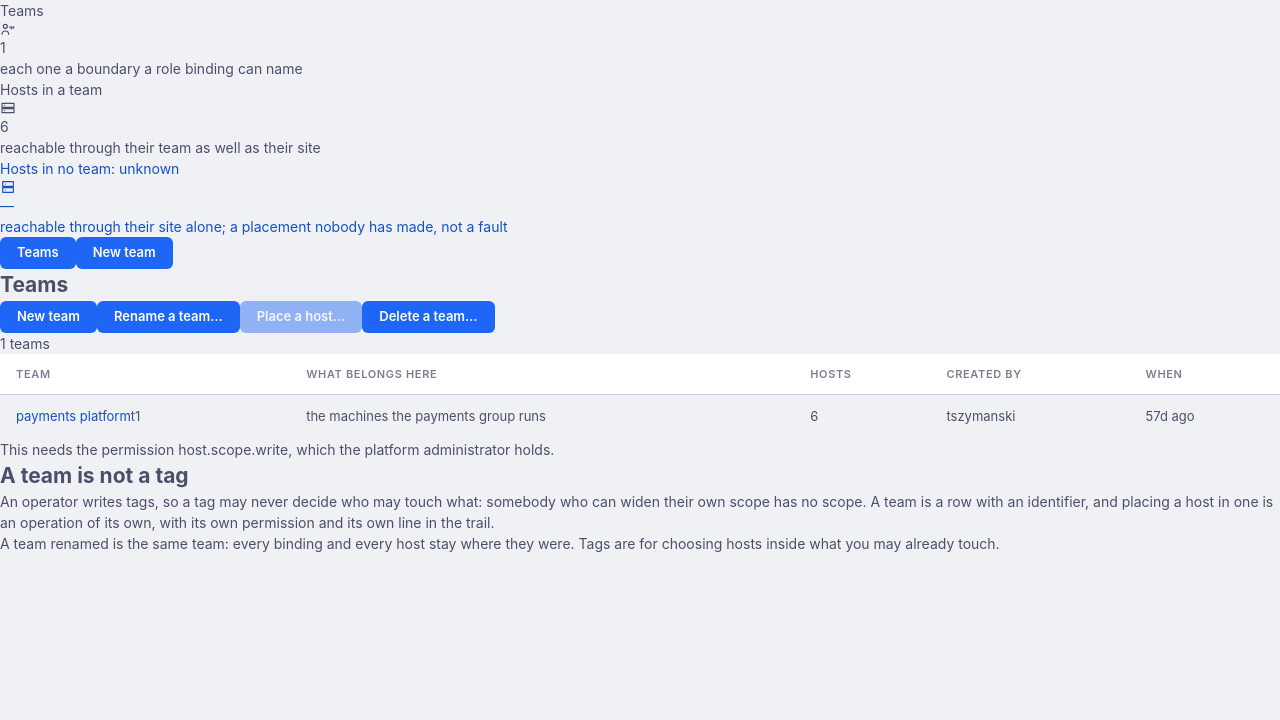
deleting a team › says what the register refused in words, keeping the dialog's own wording out of it
Click the button with test id "delete-a-team": {"x": 428, "y": 316} [362,300,494,332]
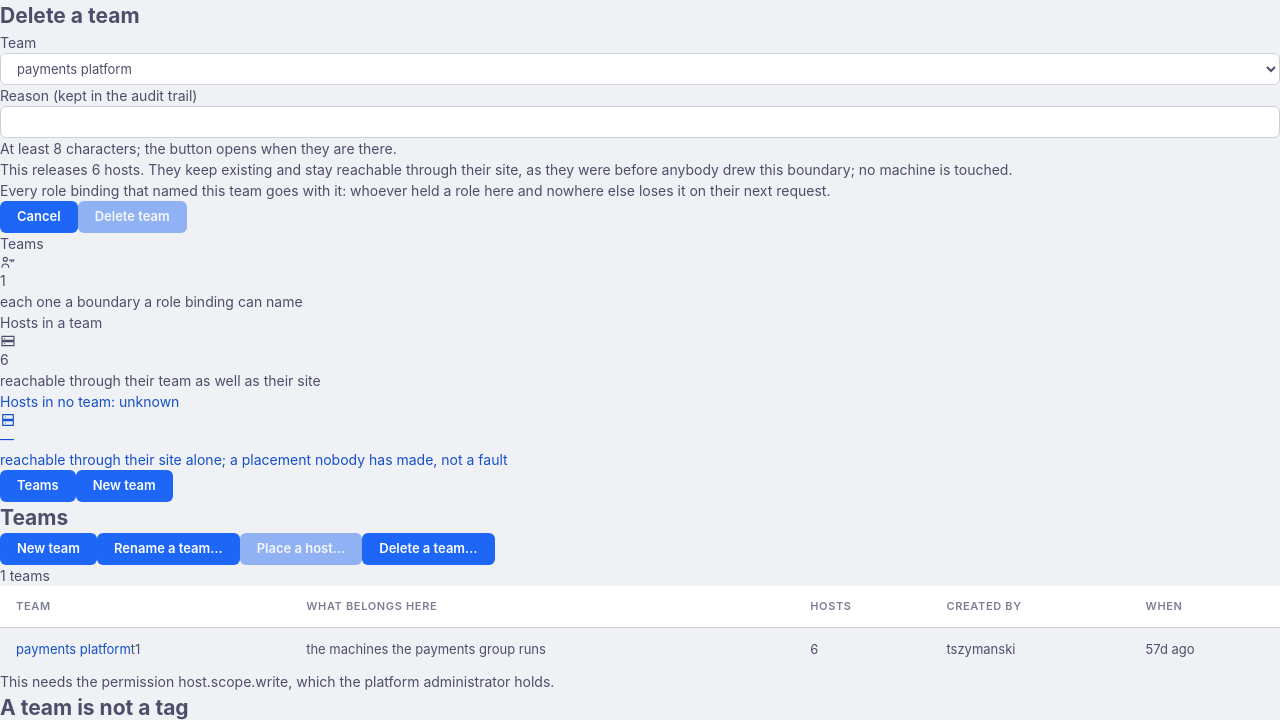
In the field with test id "team-delete-reason": {"x": 640, "y": 122} [0,106,1279,138], type "the group was wound up"
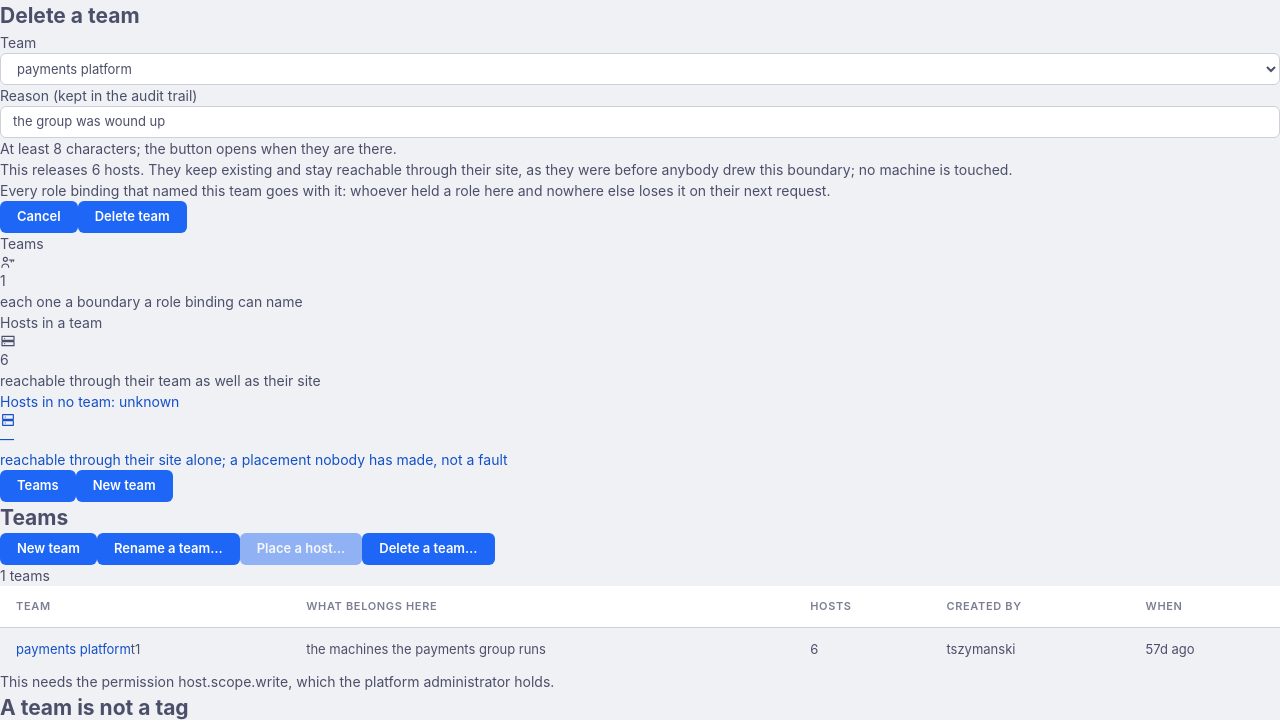
Click the button with test id "team-delete": {"x": 132, "y": 216} [78,200,187,232]
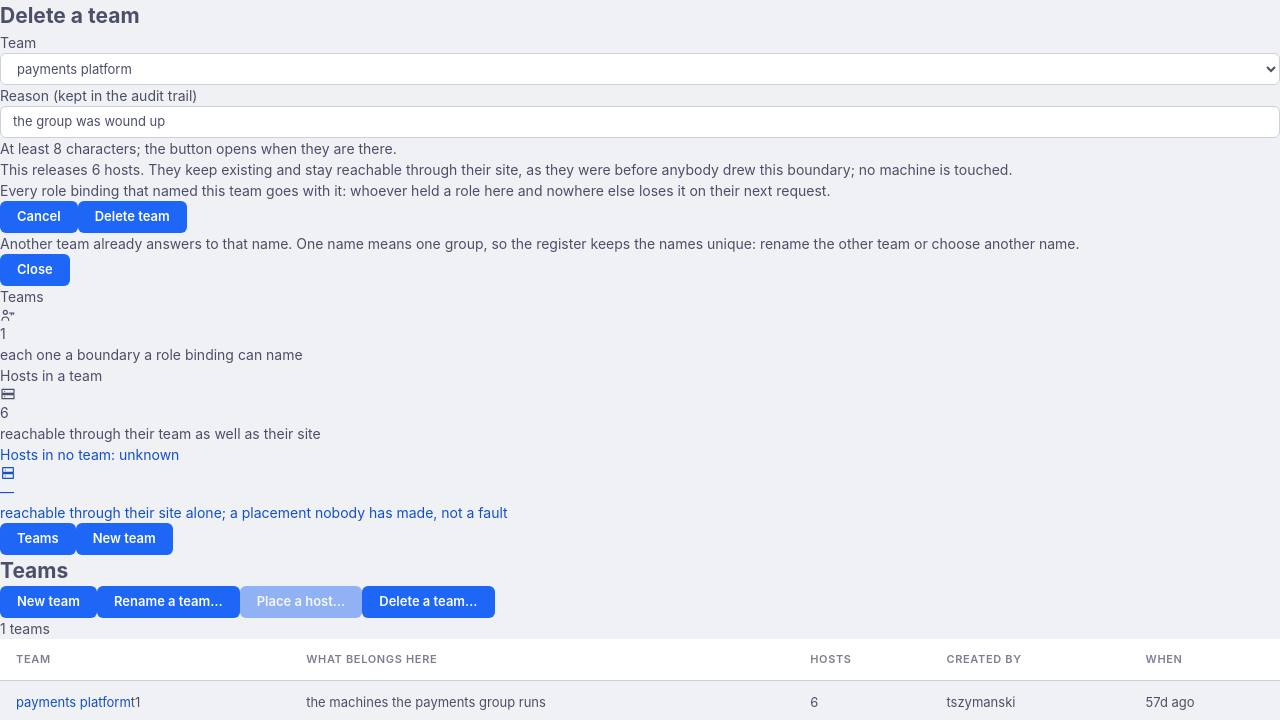
Check: the text with test id "teams-refusal" shows "keeps the names unique", box [0,234,1080,252]
